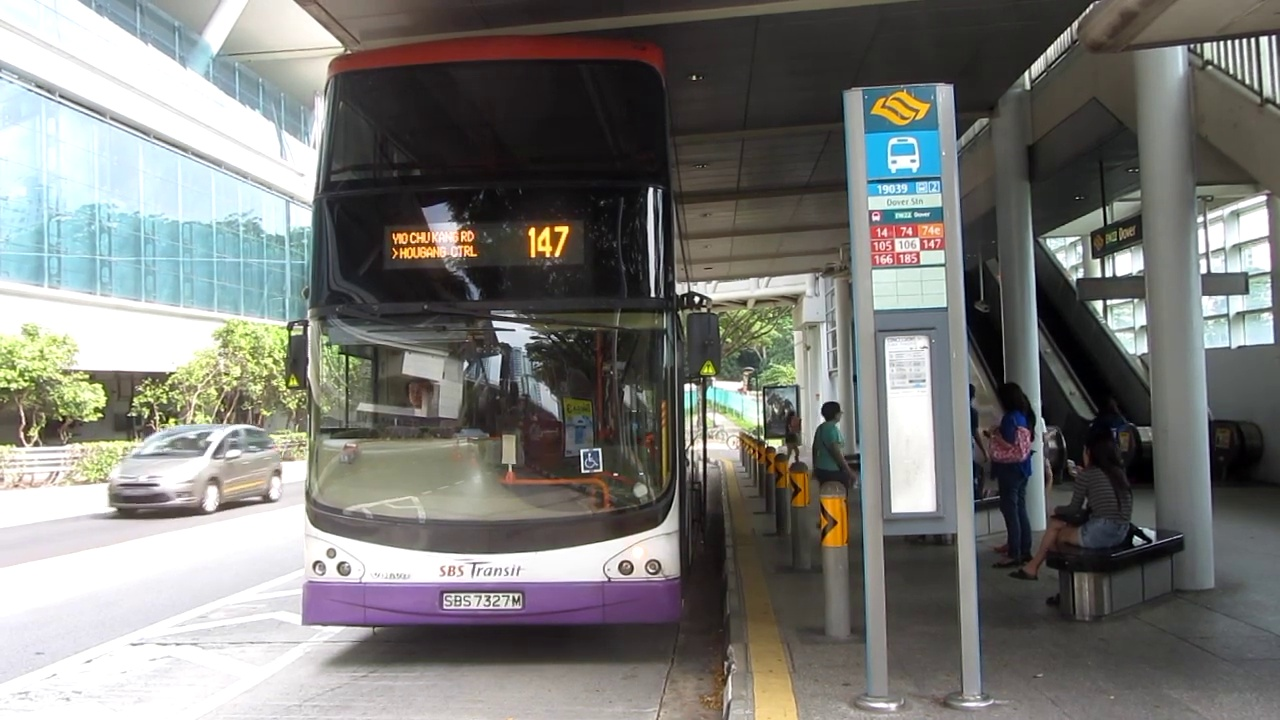bus panel: (379, 217, 587, 273)
